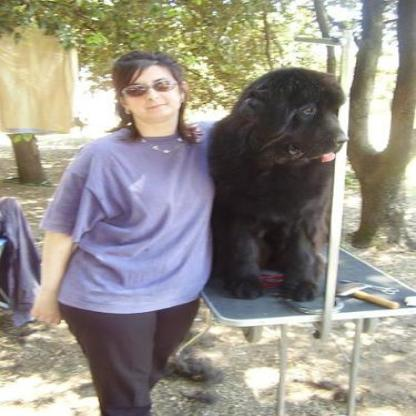Newfoundland: (206, 67, 346, 300)
